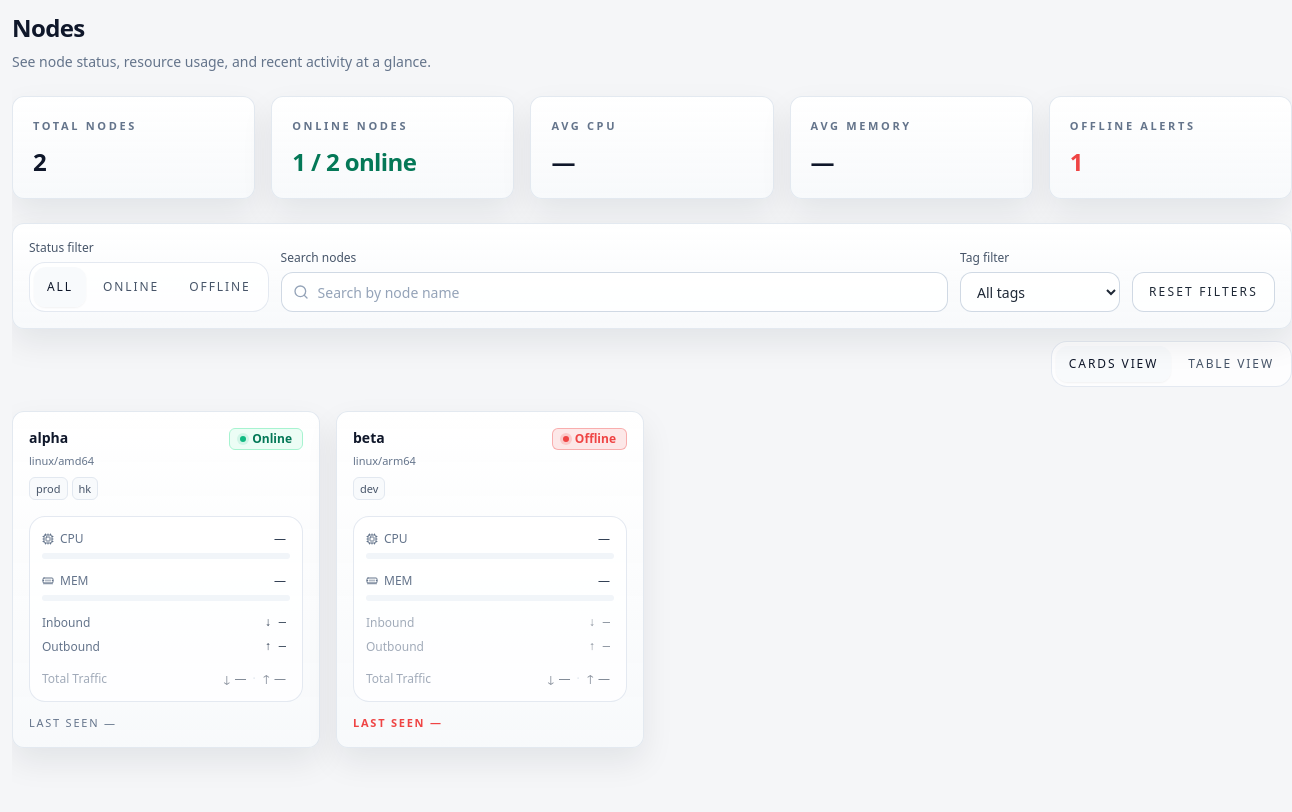
Test case: dashboard filtering › filters by status, searches, toggles view mode, and resets
Expected: the text "alpha" is shown, x1=29 y1=428 x2=68 y2=448
Expected: the text "beta" is shown, x1=353 y1=428 x2=385 y2=448
Click the button "Online" at (131, 287), box x1=90 y1=267 x2=172 y2=307
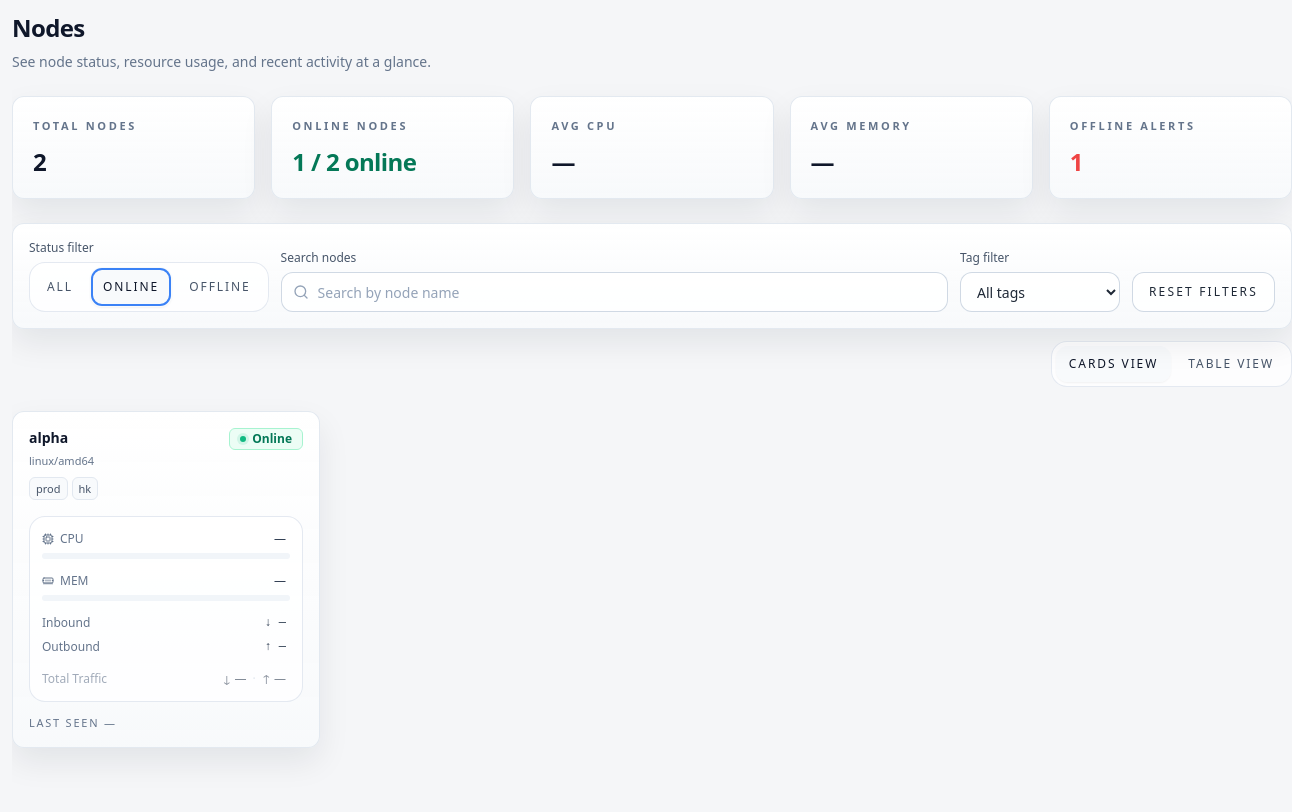
Expected: the text "alpha" is shown, x1=29 y1=428 x2=68 y2=448
Now the button "beta" is gone
Type "alp" into the field labelled "Search nodes" at (614, 292), box x1=281 y1=272 x2=948 y2=312
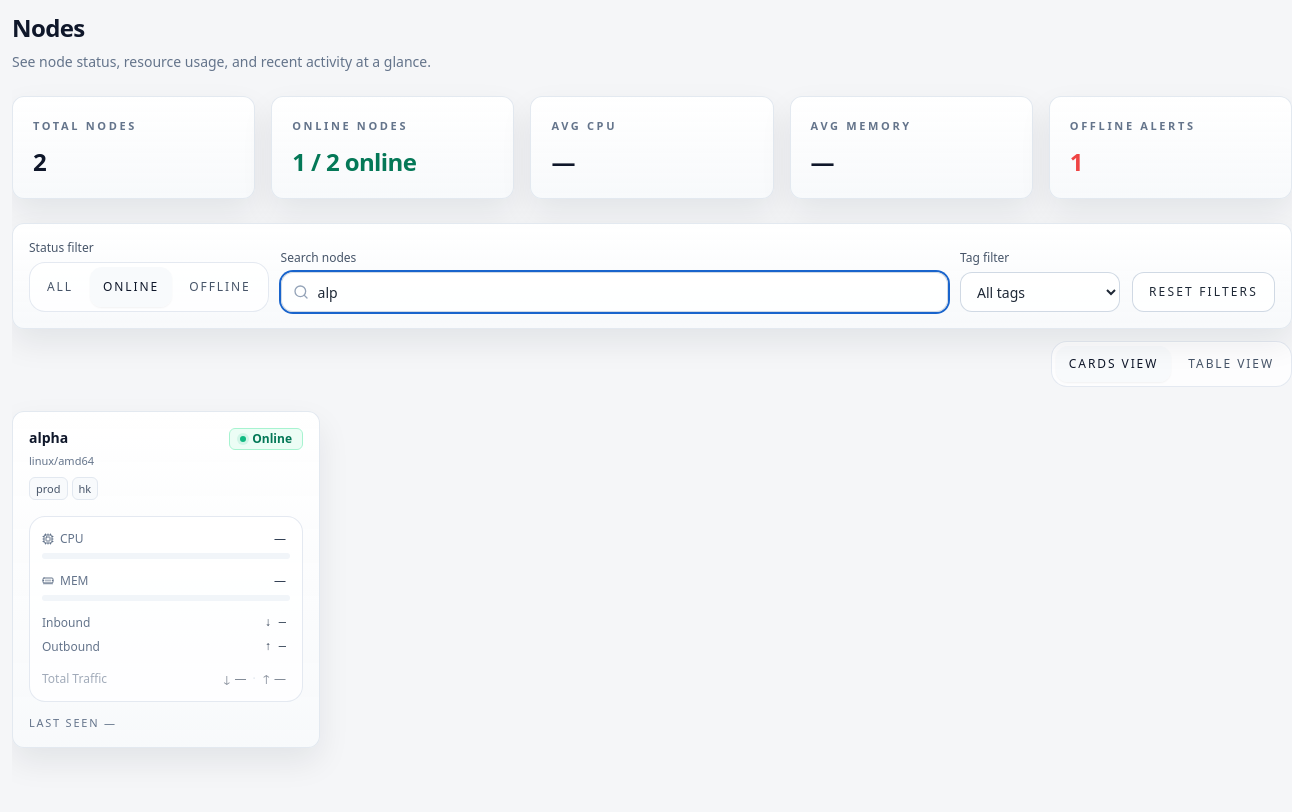
Expected: the text "alpha" is shown, x1=29 y1=428 x2=68 y2=448
Clear the field labelled "Search nodes" at (614, 292), box x1=281 y1=272 x2=948 y2=312
Click the button "All" at (60, 287), box x1=34 y1=267 x2=86 y2=307
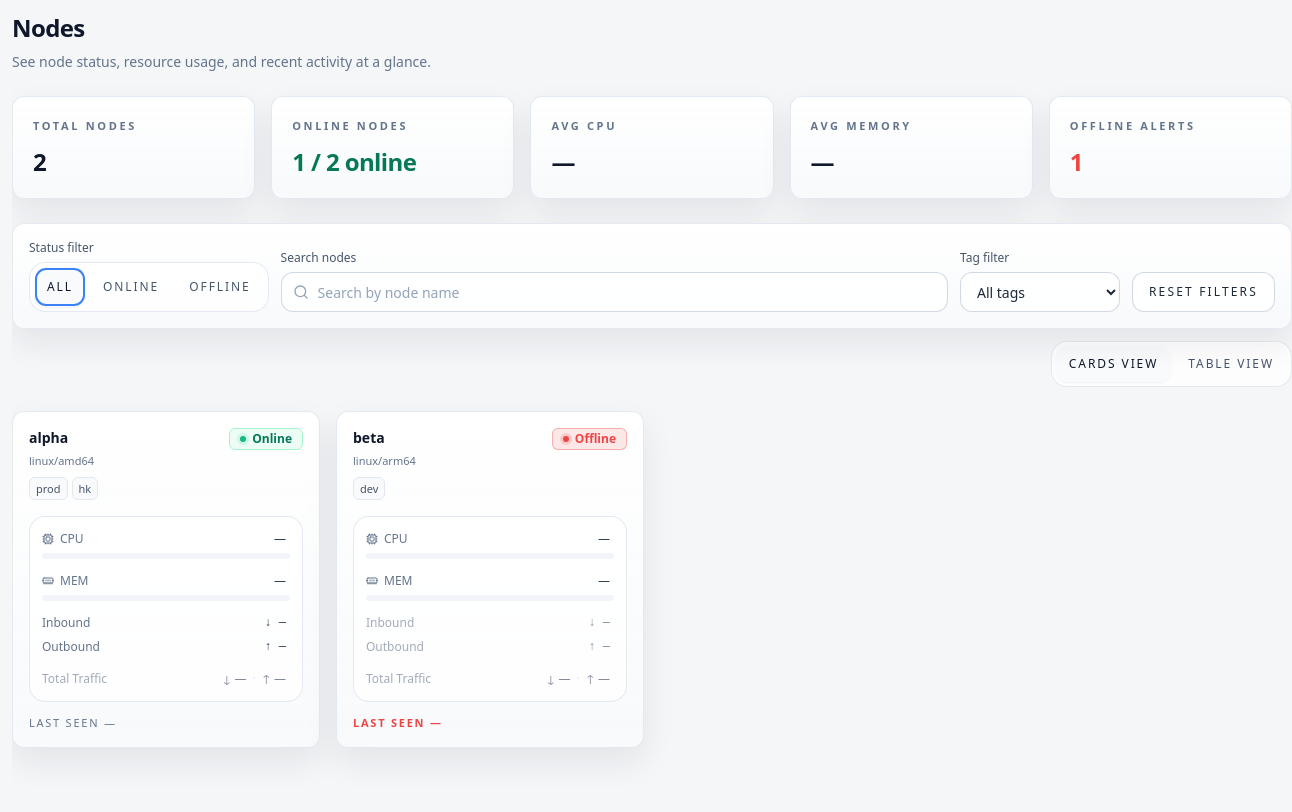
Select "dev" in the dropdown labelled "Tag filter" at (1040, 292), box x1=960 y1=272 x2=1120 y2=312
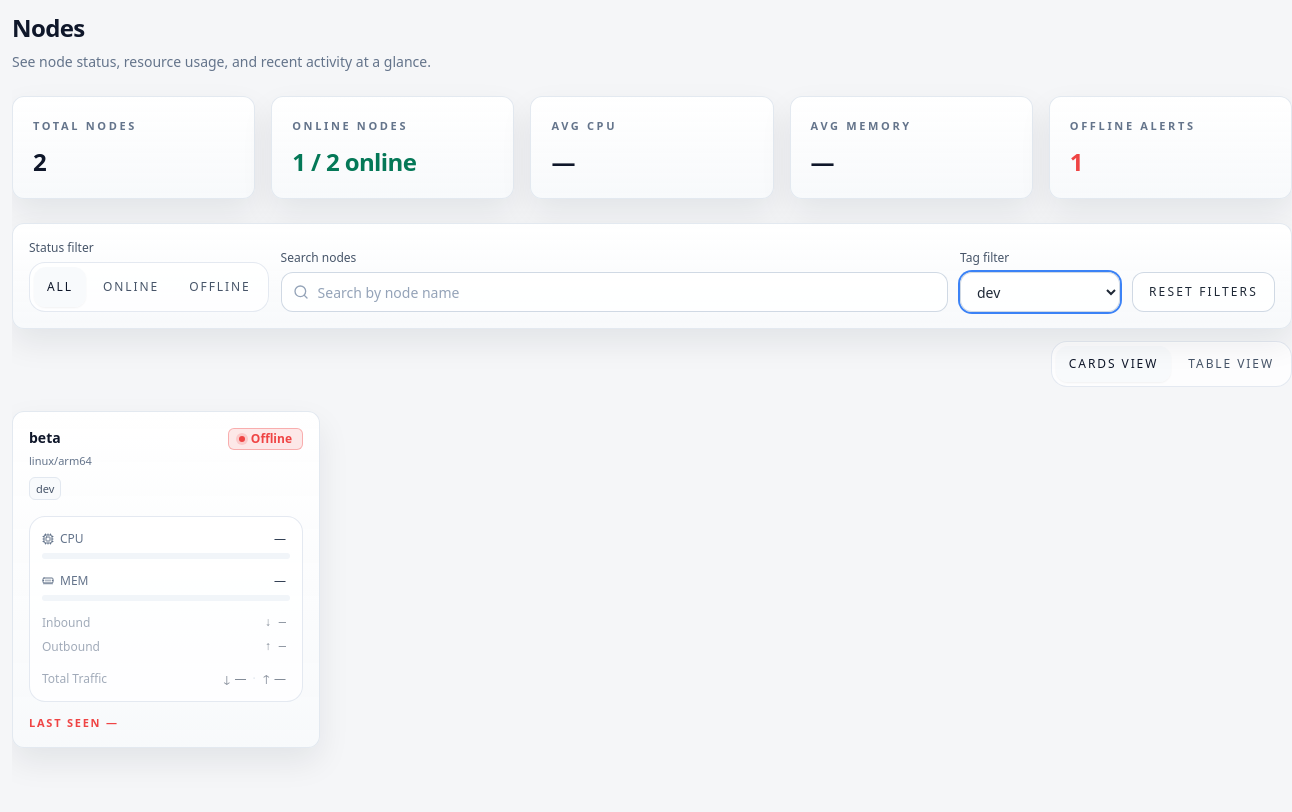
Now the text "beta" is shown, box x1=29 y1=428 x2=61 y2=448
Now the button "alpha" is gone
Click the button "Table View" at (1231, 364), box x1=1175 y1=346 x2=1287 y2=382
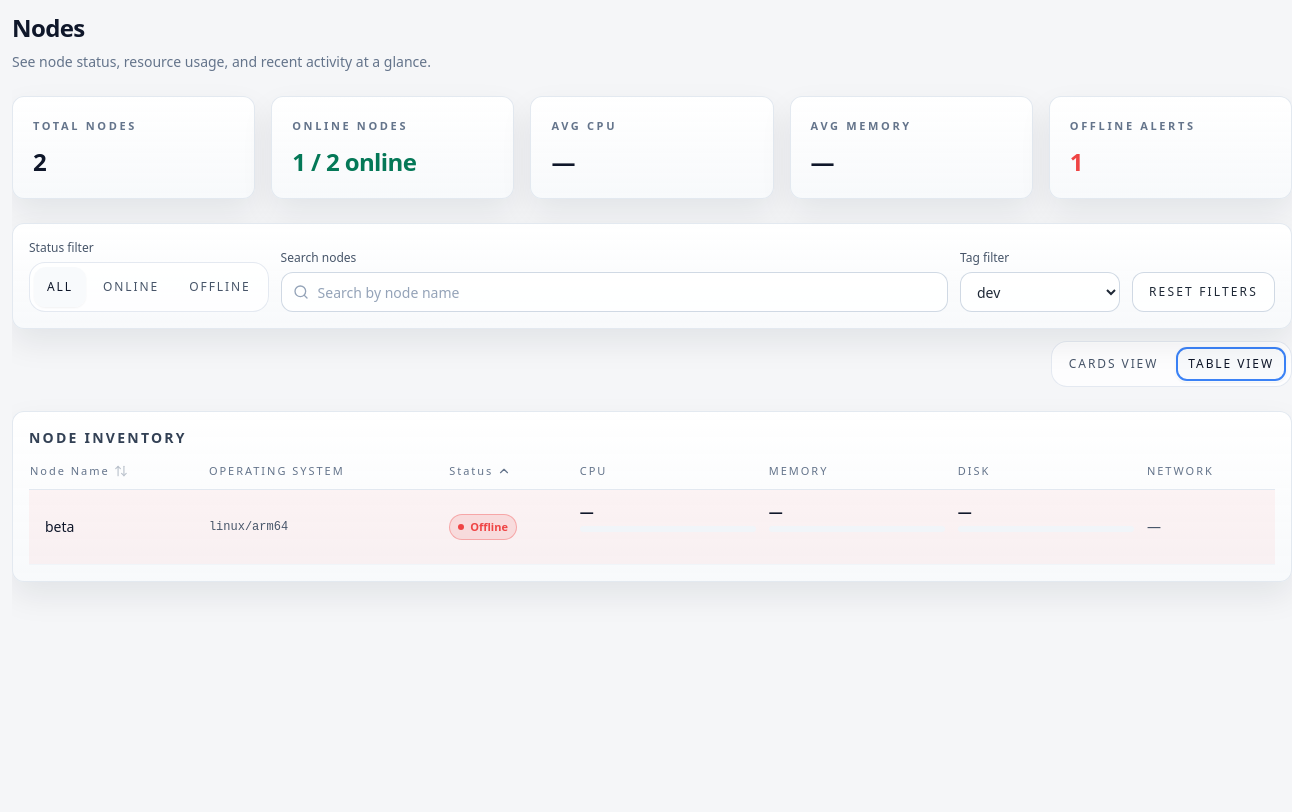
Now the text "Node Inventory" is shown, box x1=29 y1=428 x2=187 y2=447
Click the button "Reset filters" at (1204, 292), box x1=1132 y1=272 x2=1275 y2=312
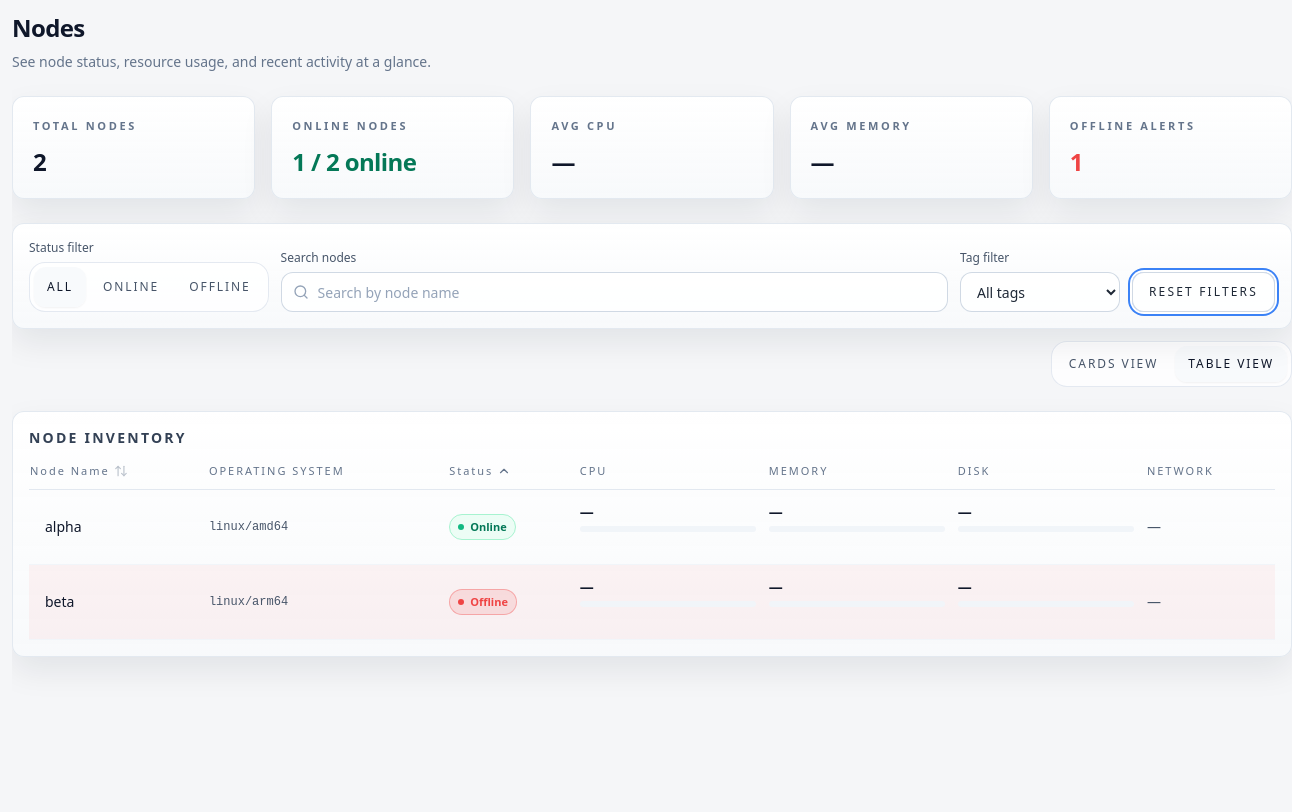
Now the text "beta" is shown, box x1=45 y1=592 x2=74 y2=612
Now the text "alpha" is shown, box x1=45 y1=517 x2=82 y2=537
